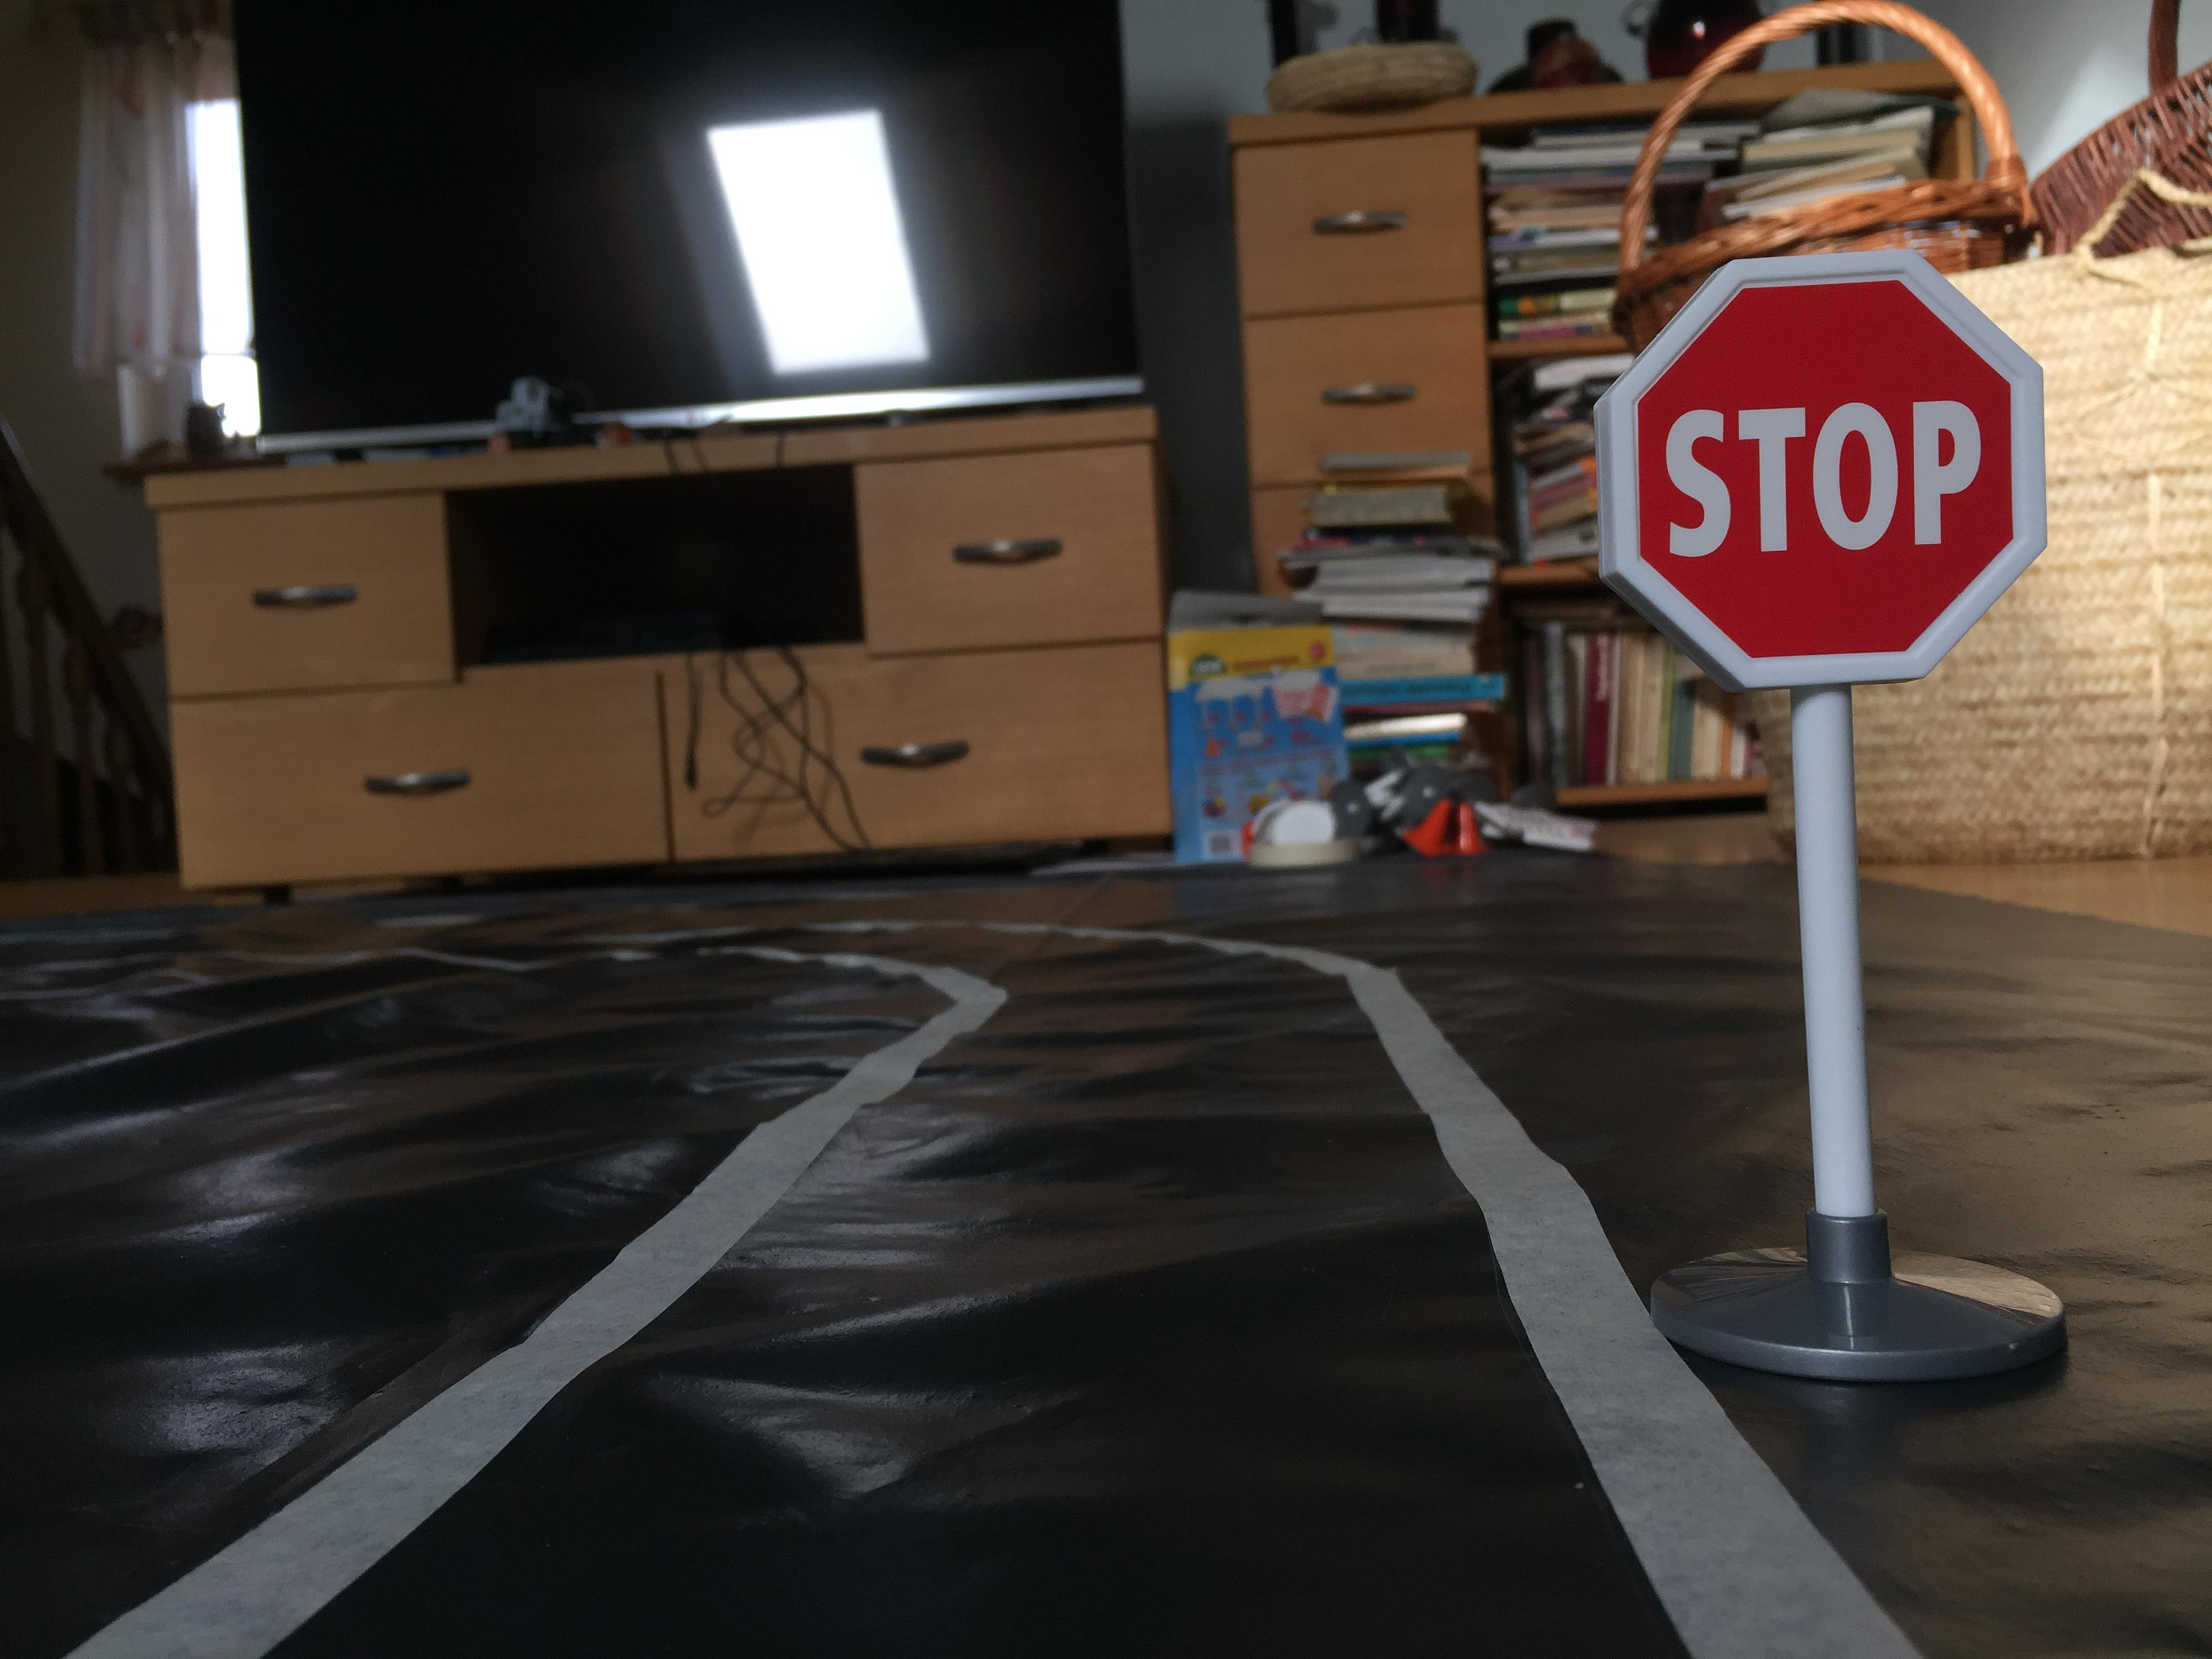stop: (1585, 247, 2060, 714)
